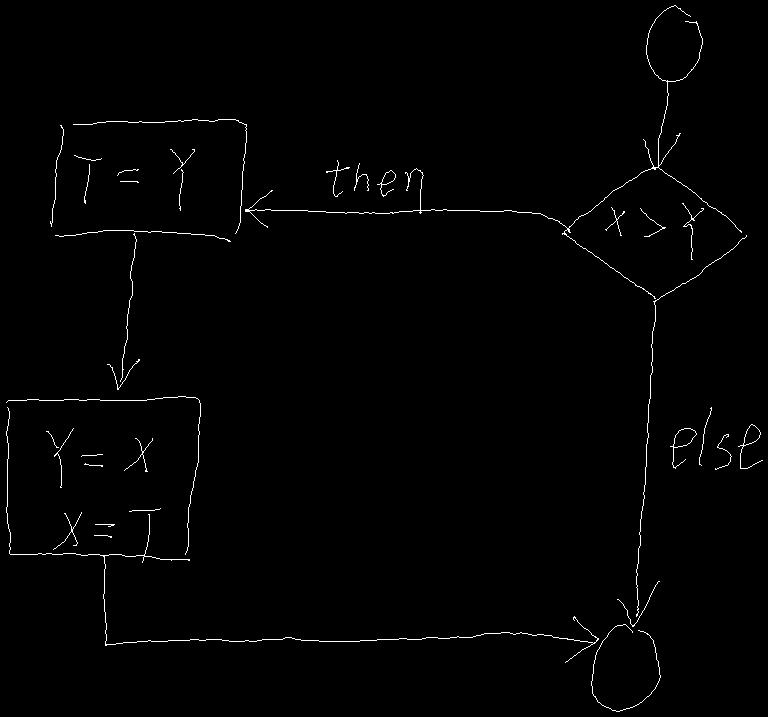arrow: (103, 555, 598, 662), (245, 190, 570, 232), (617, 301, 659, 626), (107, 233, 139, 389), (643, 80, 680, 169)
connection: (591, 624, 660, 711), (646, 5, 702, 81)
decision: (562, 166, 746, 301)
process: (6, 396, 200, 560), (50, 119, 246, 241)
text: (46, 428, 160, 562), (74, 149, 194, 210), (670, 407, 762, 469), (605, 203, 703, 259), (326, 160, 423, 213)
